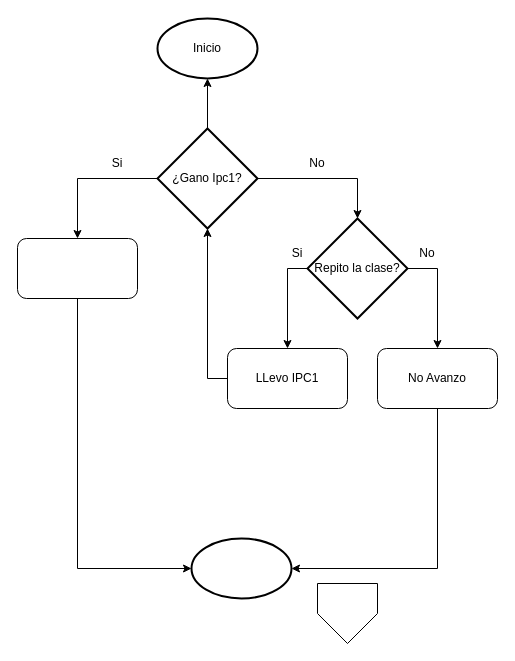
Image size: 515x661. Some labels were removed from this diagram. Here are the shapes that lost their labels. From the top down, the box of each, then its label:
(16, 238, 138, 298): Puedo llevar IPC2
(190, 537, 292, 599): Fin
